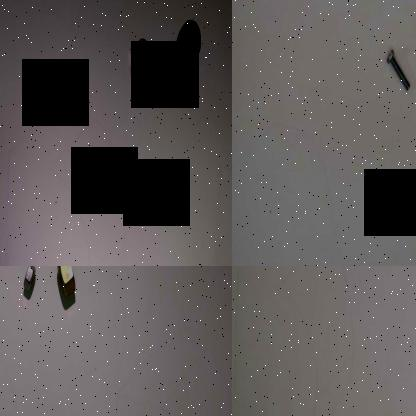Bolts: (385, 46, 416, 93)
NUTS: (168, 35, 198, 84), (51, 266, 79, 305), (129, 46, 150, 80), (21, 266, 37, 295)
